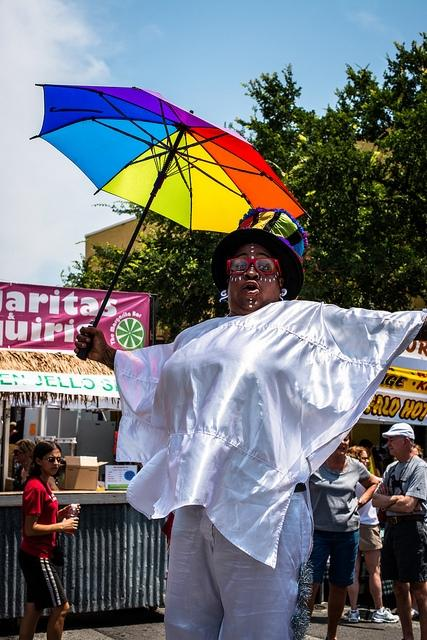lime: (116, 318, 146, 350)
